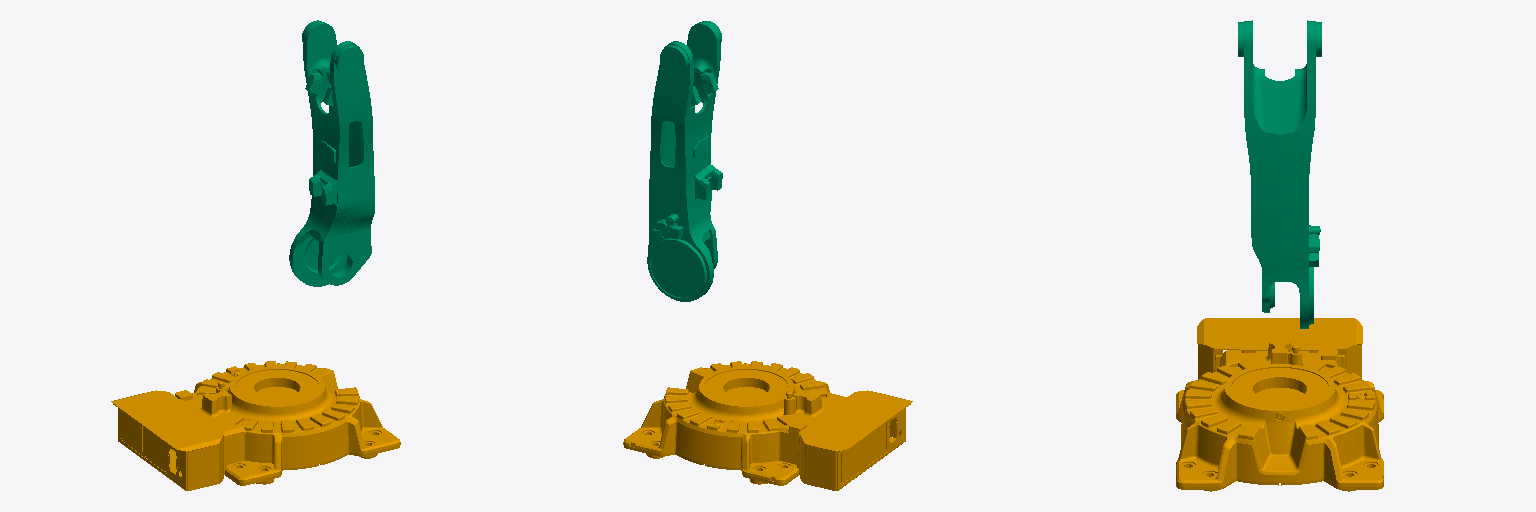
robot.urdf — IRB:
<?xml version="1.0" ?>
<robot name="IRB">

<link name="base_link">
  <inertial>
    <origin xyz="-0.00047265427344061095 0.00022521743129826438 0.10710458522749428" rpy="0 0 0"/>
    <mass value="525.9349191232106"/>
    <inertia ixx="19.556185" iyy="19.029067" izz="35.059349" ixy="0.049764" iyz="-0.012683" ixz="0.640439"/>
  </inertial>
  <visual>
    <origin xyz="0 0 0" rpy="0 0 0"/>
    <geometry>
      <mesh filename="meshes/base_link.stl" scale="0.001 0.001 0.001"/>
    </geometry>
  </visual>
  <collision>
    <origin xyz="0 0 0" rpy="0 0 0"/>
    <geometry>
      <mesh filename="meshes/base_link.stl" scale="0.001 0.001 0.001"/>
    </geometry>
  </collision>
</link>

<link name="IRB_460_110_240_IRC5_SWING_REV1_1">
  <inertial>
    <origin xyz="0.1479736895719858 0.022761055102656597 0.33869054926173536" rpy="0 0 0"/>
    <mass value="806.4368082449564"/>
    <inertia ixx="76.482905" iyy="52.073631" izz="67.802552" ixy="1.364182" iyz="1.867355" ixz="-14.61929"/>
  </inertial>
  <visual>
    <origin xyz="-0.0 -0.0 -0.23" rpy="0 0 0"/>
    <geometry>
      <mesh filename="meshes/IRB_460_110_240_IRC5_SWING_REV1_1.stl" scale="0.001 0.001 0.001"/>
    </geometry>
  </visual>
  <collision>
    <origin xyz="-0.0 -0.0 -0.23" rpy="0 0 0"/>
    <geometry>
      <mesh filename="meshes/IRB_460_110_240_IRC5_SWING_REV1_1.stl" scale="0.001 0.001 0.001"/>
    </geometry>
  </collision>
</link>

<link name="IRB_460_110_240_IRC5_LOWER_ARM_REV1_1">
  <inertial>
    <origin xyz="0.021141065890108557 0.1345265972876942 0.3975547114414125" rpy="0 0 0"/>
    <mass value="101.58763769736647"/>
    <inertia ixx="13.123586" iyy="12.838128" izz="1.170117" ixy="0.016335" iyz="0.705578" ixz="0.046741"/>
  </inertial>
  <visual>
    <origin xyz="-0.26 0.1165 -0.7425" rpy="0 0 0"/>
    <geometry>
      <mesh filename="meshes/IRB_460_110_240_IRC5_LOWER_ARM_REV1_1.stl" scale="0.001 0.001 0.001"/>
    </geometry>
  </visual>
  <collision>
    <origin xyz="-0.26 0.1165 -0.7425" rpy="0 0 0"/>
    <geometry>
      <mesh filename="meshes/IRB_460_110_240_IRC5_LOWER_ARM_REV1_1.stl" scale="0.001 0.001 0.001"/>
    </geometry>
  </collision>
</link>

<link name="IRB_460_110_240_IRC5_UPPER_ARM_REV1_1">
  <inertial>
    <origin xyz="0.1595701111359898 -0.041615704209256185 0.045782223297883284" rpy="0 0 0"/>
    <mass value="82.64024688781541"/>
    <inertia ixx="0.579951" iyy="15.392221" izz="15.390174" ixy="-0.207263" iyz="-0.011478" ixz="-0.093142"/>
  </inertial>
  <visual>
    <origin xyz="-0.26 -0.0375 -1.6875" rpy="0 0 0"/>
    <geometry>
      <mesh filename="meshes/IRB_460_110_240_IRC5_UPPER_ARM_REV1_1.stl" scale="0.001 0.001 0.001"/>
    </geometry>
  </visual>
  <collision>
    <origin xyz="-0.26 -0.0375 -1.6875" rpy="0 0 0"/>
    <geometry>
      <mesh filename="meshes/IRB_460_110_240_IRC5_UPPER_ARM_REV1_1.stl" scale="0.001 0.001 0.001"/>
    </geometry>
  </collision>
</link>

<link name="IRB_460_110_240_IRC5_TILT_REV1_1">
  <inertial>
    <origin xyz="0.18276208938234428 0.05871995833431365 -0.06060888516090168" rpy="0 0 0"/>
    <mass value="77.58314898991108"/>
    <inertia ixx="1.092912" iyy="1.21663" izz="0.911375" ixy="0.024538" iyz="0.146783" ixz="0.10834"/>
  </inertial>
  <visual>
    <origin xyz="-1.285 0.075 -1.6875" rpy="0 0 0"/>
    <geometry>
      <mesh filename="meshes/IRB_460_110_240_IRC5_TILT_REV1_1.stl" scale="0.001 0.001 0.001"/>
    </geometry>
  </visual>
  <collision>
    <origin xyz="-1.285 0.075 -1.6875" rpy="0 0 0"/>
    <geometry>
      <mesh filename="meshes/IRB_460_110_240_IRC5_TILT_REV1_1.stl" scale="0.001 0.001 0.001"/>
    </geometry>
  </collision>
</link>

<link name="IRB_460_110_240_IRC5_DISK_REV1_1">
  <inertial>
    <origin xyz="-0.0002924294844590669 3.1886745176816403e-10 -0.014407242463541525" rpy="0 0 0"/>
    <mass value="4.672631003253398"/>
    <inertia ixx="0.008833" iyy="0.008905" izz="0.016784" ixy="-0.0" iyz="0.0" ixz="3e-06"/>
  </inertial>
  <visual>
    <origin xyz="-1.505 -0.0 -1.47" rpy="0 0 0"/>
    <geometry>
      <mesh filename="meshes/IRB_460_110_240_IRC5_DISK_REV1_1.stl" scale="0.001 0.001 0.001"/>
    </geometry>
  </visual>
  <collision>
    <origin xyz="-1.505 -0.0 -1.47" rpy="0 0 0"/>
    <geometry>
      <mesh filename="meshes/IRB_460_110_240_IRC5_DISK_REV1_1.stl" scale="0.001 0.001 0.001"/>
    </geometry>
  </collision>
</link>

<link name="IRB_460_110_240_IRC5_TILT_REV1_1_duplicate">
  <inertial>
    <origin xyz="-0.04705091061765576 0.17071995833431367 -0.2534448851609017" rpy="0 0 0"/>
    <mass value="77.58314898991108"/>
    <inertia ixx="1.092912" iyy="1.21663" izz="0.911375" ixy="0.024538" iyz="0.146783" ixz="0.10834"/>
  </inertial>
  <visual>
    <origin xyz="-1.514813 0.187 -1.880336" rpy="0 0 0"/>
    <geometry>
      <mesh filename="meshes/IRB_460_110_240_IRC5_TILT_REV1_1.stl" scale="0.001 0.001 0.001"/>
    </geometry>
  </visual>
  <collision>
    <origin xyz="-1.514813 0.187 -1.880336" rpy="0 0 0"/>
    <geometry>
      <mesh filename="meshes/IRB_460_110_240_IRC5_TILT_REV1_1.stl" scale="0.001 0.001 0.001"/>
    </geometry>
  </collision>
</link>

<link name="IRB_460_110_240_IRC5_UPPER_LINK_REV1_1">
  <inertial>
    <origin xyz="0.5125010791034306 0.043500002477088046 2.9607169338419226e-07" rpy="0 0 0"/>
    <mass value="11.111897542619332"/>
    <inertia ixx="0.005543" iyy="1.816052" izz="1.812639" ixy="0.0" iyz="0.0" ixz="0.0"/>
  </inertial>
  <visual>
    <origin xyz="-0.489813 0.208 -1.880336" rpy="0 0 0"/>
    <geometry>
      <mesh filename="meshes/IRB_460_110_240_IRC5_UPPER_LINK_REV1_1.stl" scale="0.001 0.001 0.001"/>
    </geometry>
  </visual>
  <collision>
    <origin xyz="-0.489813 0.208 -1.880336" rpy="0 0 0"/>
    <geometry>
      <mesh filename="meshes/IRB_460_110_240_IRC5_UPPER_LINK_REV1_1.stl" scale="0.001 0.001 0.001"/>
    </geometry>
  </collision>
</link>

<link name="IRB_460_110_240_IRC5_LINK_PLATE_REV1_1">
  <inertial>
    <origin xyz="-0.006404757105329673 -0.0657559957077182 0.08262207289221557" rpy="0 0 0"/>
    <mass value="22.38352697996098"/>
    <inertia ixx="0.159625" iyy="0.567049" izz="0.429862" ixy="-0.01341" iyz="-0.001838" ixz="-0.031947"/>
  </inertial>
  <visual>
    <origin xyz="-0.26 0.147 -1.6875" rpy="0 0 0"/>
    <geometry>
      <mesh filename="meshes/IRB_460_110_240_IRC5_LINK_PLATE_REV1_1.stl" scale="0.001 0.001 0.001"/>
    </geometry>
  </visual>
  <collision>
    <origin xyz="-0.26 0.147 -1.6875" rpy="0 0 0"/>
    <geometry>
      <mesh filename="meshes/IRB_460_110_240_IRC5_LINK_PLATE_REV1_1.stl" scale="0.001 0.001 0.001"/>
    </geometry>
  </collision>
</link>

<link name="IRB_460_110_240_IRC5_LINK_PLATE_REV1_1_duplicate">
  <inertial>
    <origin xyz="0.25847924289467034 0.07124400429228178 -0.058218927107784424" rpy="0 0 0"/>
    <mass value="22.38352697996098"/>
    <inertia ixx="0.159625" iyy="0.567049" izz="0.429862" ixy="-0.01341" iyz="-0.001838" ixz="-0.031947"/>
  </inertial>
  <visual>
    <origin xyz="0.004884 0.284 -1.828341" rpy="0 0 0"/>
    <geometry>
      <mesh filename="meshes/IRB_460_110_240_IRC5_LINK_PLATE_REV1_1.stl" scale="0.001 0.001 0.001"/>
    </geometry>
  </visual>
  <collision>
    <origin xyz="0.004884 0.284 -1.828341" rpy="0 0 0"/>
    <geometry>
      <mesh filename="meshes/IRB_460_110_240_IRC5_LINK_PLATE_REV1_1.stl" scale="0.001 0.001 0.001"/>
    </geometry>
  </collision>
</link>

<link name="IRB_460_110_240_IRC5_LOWER_LINK_REV1_1">
  <inertial>
    <origin xyz="-0.029524874453877394 0.02250000377797473 0.47250091396373517" rpy="0 0 0"/>
    <mass value="11.329950439757278"/>
    <inertia ixx="1.578857" iyy="1.592496" izz="0.015818" ixy="-0.0" iyz="0.0" ixz="-0.0"/>
  </inertial>
  <visual>
    <origin xyz="0.004884 0.284 -0.883341" rpy="0 0 0"/>
    <geometry>
      <mesh filename="meshes/IRB_460_110_240_IRC5_LOWER_LINK_REV1_1.stl" scale="0.001 0.001 0.001"/>
    </geometry>
  </visual>
  <collision>
    <origin xyz="0.004884 0.284 -0.883341" rpy="0 0 0"/>
    <geometry>
      <mesh filename="meshes/IRB_460_110_240_IRC5_LOWER_LINK_REV1_1.stl" scale="0.001 0.001 0.001"/>
    </geometry>
  </collision>
</link>

<link name="IRB_460_110_240_IRC5_UPPER_ARM_REV1_1_duplicate">
  <inertial>
    <origin xyz="0.5595701111359899 0.1033842957907438 0.045782223297883284" rpy="0 0 0"/>
    <mass value="82.64024688781541"/>
    <inertia ixx="0.579951" iyy="15.392221" izz="15.390174" ixy="-0.207263" iyz="-0.011478" ixz="-0.093142"/>
  </inertial>
  <visual>
    <origin xyz="0.14 0.1075 -1.6875" rpy="0 0 0"/>
    <geometry>
      <mesh filename="meshes/IRB_460_110_240_IRC5_UPPER_ARM_REV1_1.stl" scale="0.001 0.001 0.001"/>
    </geometry>
  </visual>
  <collision>
    <origin xyz="0.14 0.1075 -1.6875" rpy="0 0 0"/>
    <geometry>
      <mesh filename="meshes/IRB_460_110_240_IRC5_UPPER_ARM_REV1_1.stl" scale="0.001 0.001 0.001"/>
    </geometry>
  </collision>
</link>

<link name="IRB_460_110_240_IRC5_P_LINK_REV1_1">
  <inertial>
    <origin xyz="-2.6260499746966204e-08 0.06933699492165933 0.47250025806478735" rpy="0 0 0"/>
    <mass value="23.128450658047104"/>
    <inertia ixx="3.678366" iyy="3.683008" izz="0.025159" ixy="-0.0" iyz="-0.0" ixz="0.0"/>
  </inertial>
  <visual>
    <origin xyz="0.14 0.1065 -0.7425" rpy="0 0 0"/>
    <geometry>
      <mesh filename="meshes/IRB_460_110_240_IRC5_P_LINK_REV1_1.stl" scale="0.001 0.001 0.001"/>
    </geometry>
  </visual>
  <collision>
    <origin xyz="0.14 0.1065 -0.7425" rpy="0 0 0"/>
    <geometry>
      <mesh filename="meshes/IRB_460_110_240_IRC5_P_LINK_REV1_1.stl" scale="0.001 0.001 0.001"/>
    </geometry>
  </collision>
</link>

<link name="IRB_460_110_240_IRC5_P_ARM_REV1_1">
  <inertial>
    <origin xyz="-0.12344687725766842 0.04917519895421878 -0.00020777506504110477" rpy="0 0 0"/>
    <mass value="41.46703883825704"/>
    <inertia ixx="0.327476" iyy="1.330739" izz="1.138431" ixy="0.139194" iyz="0.028958" ixz="-0.14106"/>
  </inertial>
  <visual>
    <origin xyz="-0.26 0.129 -0.7425" rpy="0 0 0"/>
    <geometry>
      <mesh filename="meshes/IRB_460_110_240_IRC5_P_ARM_REV1_1.stl" scale="0.001 0.001 0.001"/>
    </geometry>
  </visual>
  <collision>
    <origin xyz="-0.26 0.129 -0.7425" rpy="0 0 0"/>
    <geometry>
      <mesh filename="meshes/IRB_460_110_240_IRC5_P_ARM_REV1_1.stl" scale="0.001 0.001 0.001"/>
    </geometry>
  </collision>
</link>

<joint name="j1" type="continuous">
  <origin xyz="0.0 0.0 0.23" rpy="0 0 0"/>
  <parent link="base_link"/>
  <child link="IRB_460_110_240_IRC5_SWING_REV1_1"/>
  <axis xyz="0.0 0.0 -1.0"/>
</joint>

<joint name="j2" type="continuous">
  <origin xyz="0.26 -0.1165 0.5125" rpy="0 0 0"/>
  <parent link="IRB_460_110_240_IRC5_SWING_REV1_1"/>
  <child link="IRB_460_110_240_IRC5_LOWER_ARM_REV1_1"/>
  <axis xyz="0.0 1.0 -0.0"/>
</joint>

<joint name="Revolute_14" type="continuous">
  <origin xyz="-0.4 0.009 0.945" rpy="0 0 0"/>
  <parent link="IRB_460_110_240_IRC5_LOWER_ARM_REV1_1"/>
  <child link="IRB_460_110_240_IRC5_UPPER_ARM_REV1_1"/>
  <axis xyz="0.0 1.0 0.0"/>
</joint>

<joint name="Revolute_15" type="continuous">
  <origin xyz="1.654813 -0.0795 0.192836" rpy="0 0 0"/>
  <parent link="IRB_460_110_240_IRC5_UPPER_ARM_REV1_1"/>
  <child link="IRB_460_110_240_IRC5_TILT_REV1_1"/>
  <axis xyz="-0.0 1.0 0.0"/>
</joint>

<joint name="Revolute_16" type="continuous">
  <origin xyz="-0.009813 0.187 -0.410336" rpy="0 0 0"/>
  <parent link="IRB_460_110_240_IRC5_TILT_REV1_1"/>
  <child link="IRB_460_110_240_IRC5_DISK_REV1_1"/>
  <axis xyz="0.0 0.0 -1.0"/>
</joint>

<joint name="Revolute_17" type="continuous">
  <origin xyz="1.025 0.021 0.0" rpy="0 0 0"/>
  <parent link="IRB_460_110_240_IRC5_UPPER_LINK_REV1_1"/>
  <child link="IRB_460_110_240_IRC5_TILT_REV1_1_duplicate"/>
  <axis xyz="0.0 -1.0 0.0"/>
</joint>

<joint name="Revolute_18" type="continuous">
  <origin xyz="0.494697 0.076 0.051995" rpy="0 0 0"/>
  <parent link="IRB_460_110_240_IRC5_LINK_PLATE_REV1_1"/>
  <child link="IRB_460_110_240_IRC5_UPPER_LINK_REV1_1"/>
  <axis xyz="0.0 -1.0 0.0"/>
</joint>

<joint name="Revolute_19" type="continuous">
  <origin xyz="-0.264884 -0.1675 1.085841" rpy="0 0 0"/>
  <parent link="IRB_460_110_240_IRC5_LOWER_ARM_REV1_1"/>
  <child link="IRB_460_110_240_IRC5_LINK_PLATE_REV1_1"/>
  <axis xyz="0.0 1.0 0.0"/>
</joint>

<joint name="Revolute_20" type="continuous">
  <origin xyz="0.0 0.0 0.945" rpy="0 0 0"/>
  <parent link="IRB_460_110_240_IRC5_LOWER_LINK_REV1_1"/>
  <child link="IRB_460_110_240_IRC5_LINK_PLATE_REV1_1_duplicate"/>
  <axis xyz="0.0 1.0 0.0"/>
</joint>

<joint name="Revolute_21" type="continuous">
  <origin xyz="-0.004884 -0.284 0.653341" rpy="0 0 0"/>
  <parent link="IRB_460_110_240_IRC5_SWING_REV1_1"/>
  <child link="IRB_460_110_240_IRC5_LOWER_LINK_REV1_1"/>
  <axis xyz="0.0 -1.0 0.0"/>
</joint>

<joint name="Revolute_22" type="continuous">
  <origin xyz="0.0 -0.001 0.945" rpy="0 0 0"/>
  <parent link="IRB_460_110_240_IRC5_P_LINK_REV1_1"/>
  <child link="IRB_460_110_240_IRC5_UPPER_ARM_REV1_1_duplicate"/>
  <axis xyz="-0.0 1.0 0.0"/>
</joint>

<joint name="Revolute_23" type="continuous">
  <origin xyz="-0.4 0.0225 0.0" rpy="0 0 0"/>
  <parent link="IRB_460_110_240_IRC5_P_ARM_REV1_1"/>
  <child link="IRB_460_110_240_IRC5_P_LINK_REV1_1"/>
  <axis xyz="0.0 -1.0 0.0"/>
</joint>

<joint name="Revolute_24" type="continuous">
  <origin xyz="0.26 -0.129 0.5125" rpy="0 0 0"/>
  <parent link="IRB_460_110_240_IRC5_SWING_REV1_1"/>
  <child link="IRB_460_110_240_IRC5_P_ARM_REV1_1"/>
  <axis xyz="0.0 1.0 0.0"/>
</joint>

</robot>

--- What the picture shows (computed from the rendered views, not written in the file) ---
The picture shows the robot from 3 angles, left to right: view 1: azimuth 30°, elevation 25°; view 2: azimuth 150°, elevation 25°; view 3: azimuth 270°, elevation 25°; orthographic projection.
Robot: IRB — 14 links, 13 joints (13 continuous); root link base_link; default pose: all joints at 0.
Links seen in each view (by area): view 1: base_link, IRB_460_110_240_IRC5_LOWER_ARM_REV1_1; view 2: base_link, IRB_460_110_240_IRC5_LOWER_ARM_REV1_1; view 3: base_link, IRB_460_110_240_IRC5_LOWER_ARM_REV1_1.
Link boxes in pixels (bbox=[...]): base_link: bbox=[111, 361, 400, 490]; IRB_460_110_240_IRC5_LOWER_ARM_REV1_1: bbox=[289, 20, 374, 286]; base_link: bbox=[623, 361, 912, 490]; IRB_460_110_240_IRC5_LOWER_ARM_REV1_1: bbox=[647, 21, 722, 301]; base_link: bbox=[1176, 318, 1383, 491]; IRB_460_110_240_IRC5_LOWER_ARM_REV1_1: bbox=[1238, 20, 1321, 328].
Size in the robot's own frame: 1.03 by 0.72 by 1.75 metres.
Meshes: 11 distinct files referenced, 2 mesh visuals loaded (2 binary STL); not drawn: 12 (reference not matched to a file when rendering).